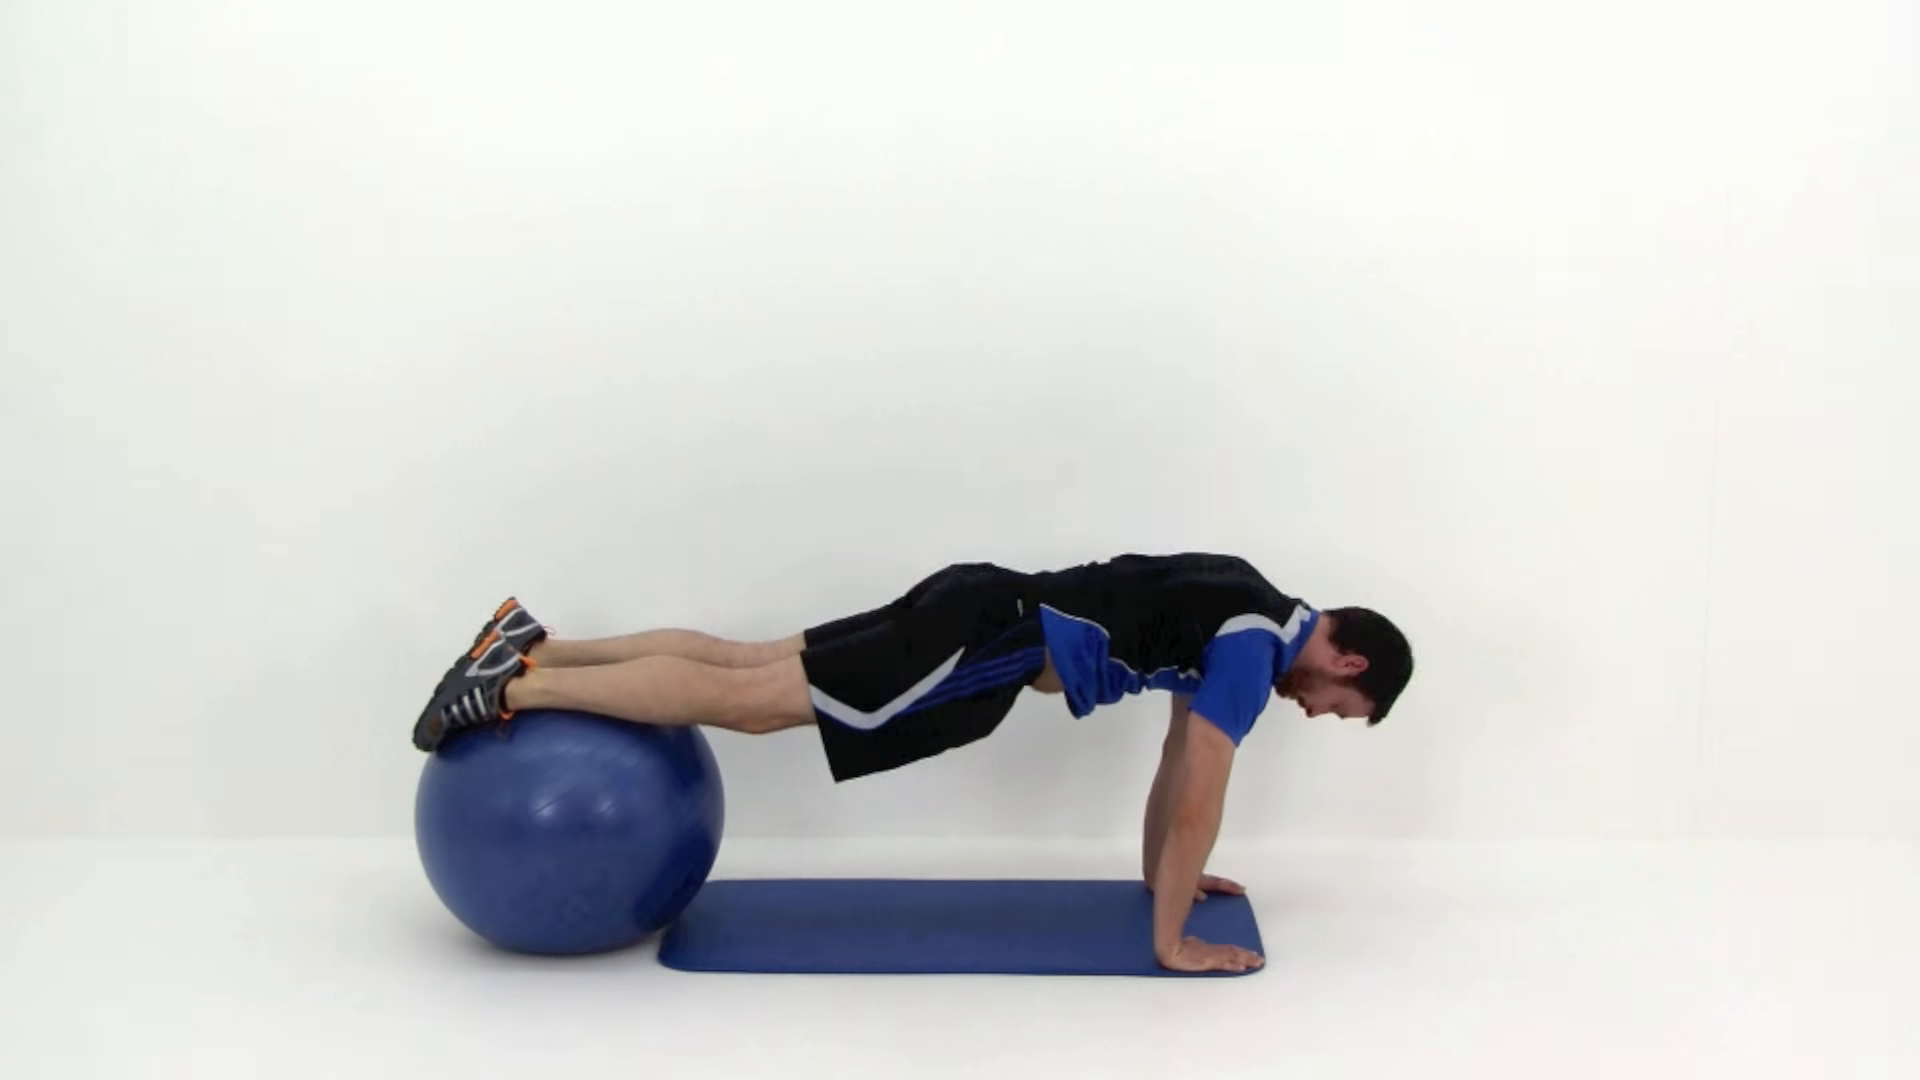yogaball: (404, 688, 735, 967)
